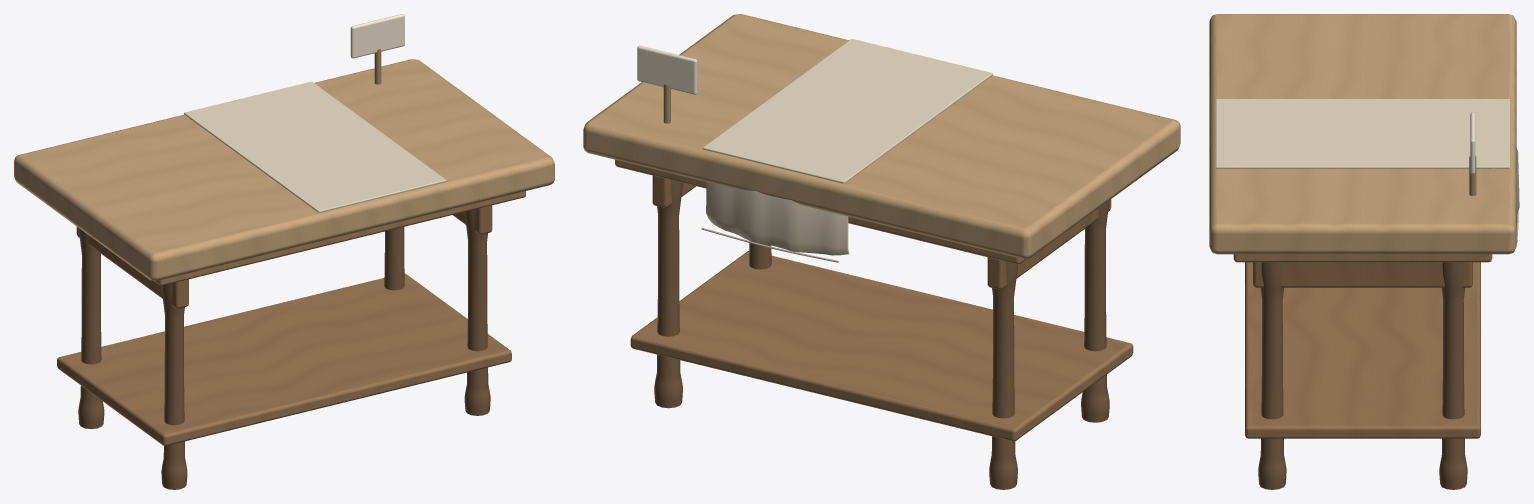
File: display-1.glb
3 views of the same model, side by side, from view 1: azimuth 30°, elevation 25°; view 2: azimuth 150°, elevation 25°; view 3: azimuth 270°, elevation 25° (orthographic). The views are drawn at different scales.
Parts seen in each view (by area): view 1: display-1; view 2: display-1; view 3: display-1.
Boxes of the visible parts, x1,y1,x2,y2 form: display-1: (14,14,554,489); display-1: (583,14,1180,489); display-1: (1209,14,1519,489).
Bounding box in the file's own units: 1.58 × 1.21 × 0.9596.
Materials: 9 (7 with a texture image).
